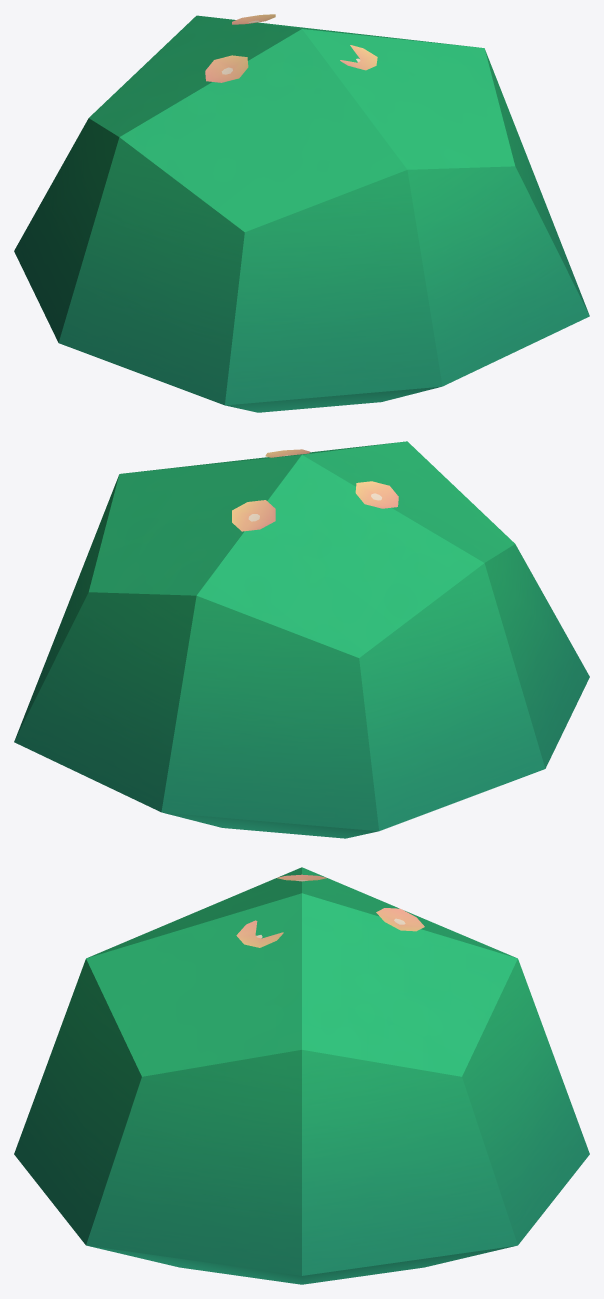
File: Куст малнький.fbx
3 renders of one model, top to bottom at view 1: azimuth 30°, elevation 25°; view 2: azimuth 150°, elevation 25°; view 3: azimuth 270°, elevation 25°, orthographic. The views are drawn at different scales.
Parts seen in each view (by area): view 1: Куст_малнький; view 2: Куст_малнький; view 3: Куст_малнький.
Boxes of the visible parts, x1,y1,x2,y2 form: Куст_малнький: (14,14,589,412); Куст_малнький: (14,441,589,838); Куст_малнький: (14,867,589,1284).
Size of the model in its own units: 21.23 by 13.12 by 21.23.
